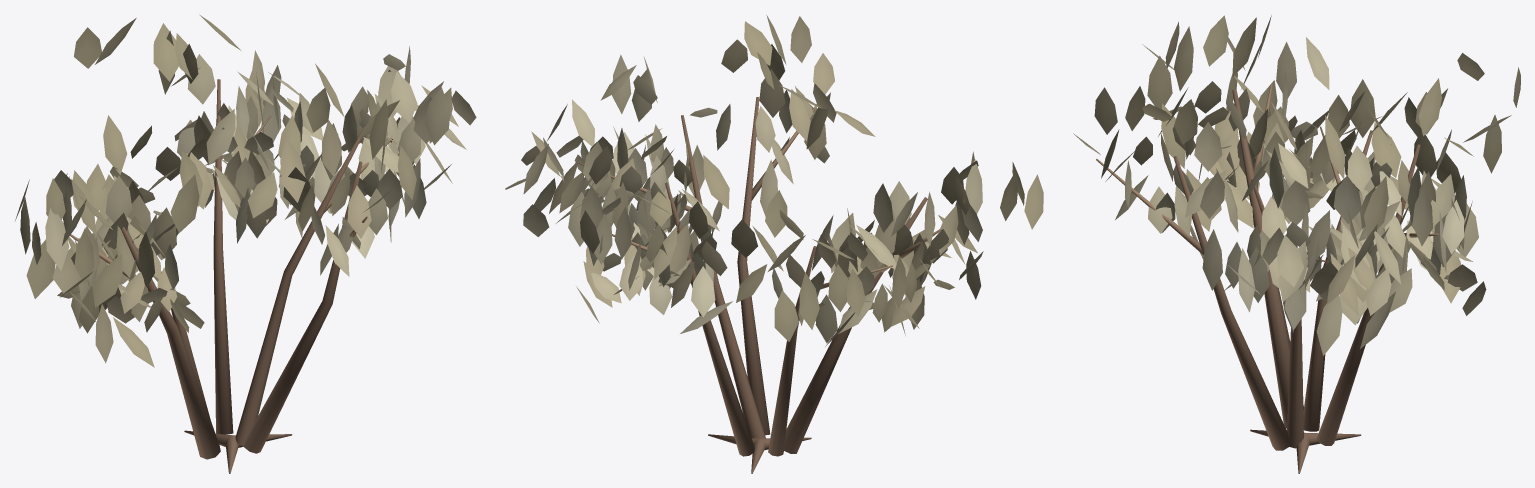
File: bush_3d_01_golden_beige.glb
The picture shows the model from 3 angles, left to right: view 1: azimuth 30°, elevation 25°; view 2: azimuth 150°, elevation 25°; view 3: azimuth 270°, elevation 25°; orthographic projection. The views are drawn at different scales.
Visible parts, largest first — view 1: bush_3d_01_golden_beige_foliage, bush_3d_01_golden_beige_wood; view 2: bush_3d_01_golden_beige_foliage, bush_3d_01_golden_beige_wood; view 3: bush_3d_01_golden_beige_foliage, bush_3d_01_golden_beige_wood.
Part boxes in pixels (x1,y1,x2,y2): bush_3d_01_golden_beige_foliage: [15, 14, 476, 367]; bush_3d_01_golden_beige_wood: [70, 79, 392, 473]; bush_3d_01_golden_beige_foliage: [505, 15, 1043, 346]; bush_3d_01_golden_beige_wood: [578, 97, 941, 473]; bush_3d_01_golden_beige_foliage: [1073, 15, 1520, 355]; bush_3d_01_golden_beige_wood: [1096, 84, 1438, 473].
Bounding box in the file's own units: 1.82 × 1.43 × 1.47.
